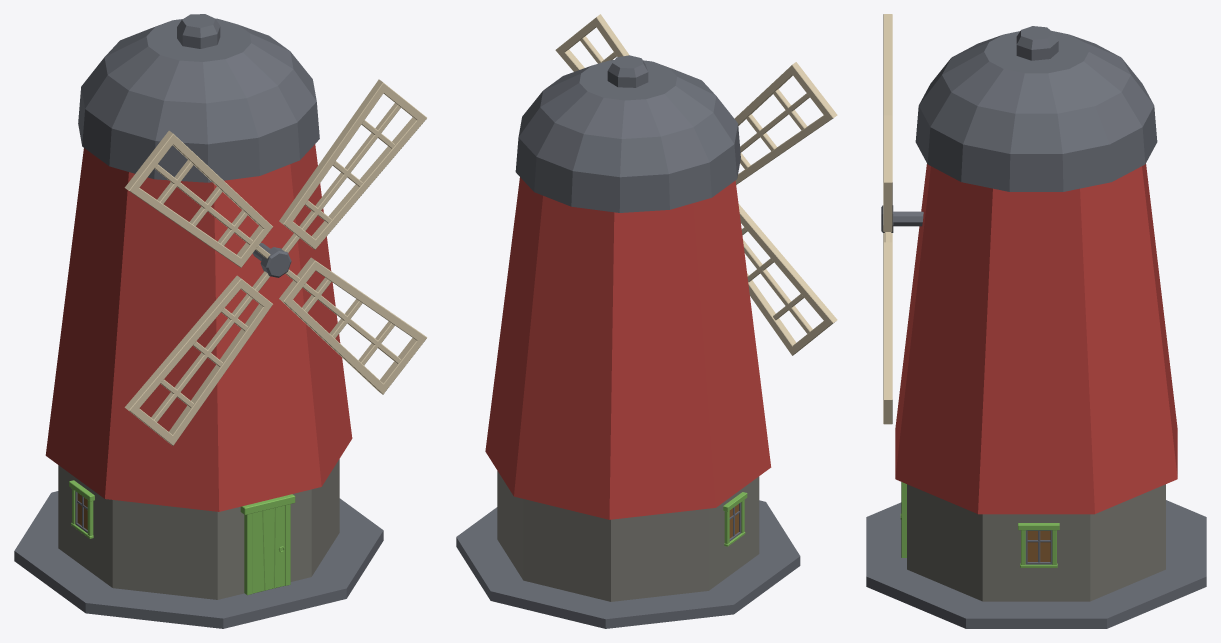
Rendered from farmstructure_b.gltf.
The picture shows the model from 3 angles, left to right: view 1: azimuth 30°, elevation 25°; view 2: azimuth 150°, elevation 25°; view 3: azimuth 270°, elevation 25°; orthographic projection. The views are drawn at different scales.
Parts seen in each view (by area): view 1: Cylinder079, Cylinder080, Rectangle015, Cylinder078, Cylinder077, Box707; view 2: Cylinder079, Cylinder080, Cylinder078, Cylinder077, Rectangle015, Box707; view 3: Cylinder079, Cylinder080, Cylinder078, Cylinder077, Rectangle015, Box707, farmstructure_b001.
Part boxes in pixels (x1,y1,x2,y2): Cylinder079: (45,144,352,511); Cylinder080: (78,14,319,277); Rectangle015: (124,79,427,445); Cylinder078: (58,459,339,599); Cylinder077: (14,491,383,628); Box707: (69,480,295,595); Cylinder079: (485,177,771,519); Cylinder080: (515,55,740,212); Cylinder078: (497,471,759,601); Cylinder077: (456,500,800,628); Rectangle015: (555,14,837,355); Box707: (723,492,747,546); Cylinder079: (895,164,1177,514); Cylinder080: (881,26,1157,232); Cylinder078: (907,484,1165,601); Cylinder077: (866,500,1206,628); Rectangle015: (883,14,892,424); Box707: (900,482,1059,567); farmstructure_b001: (1025,530,1052,564).
Size of the model in its own units: 6.2 by 10.46 by 6.15.
Materials: 1 (1 with a texture image).
